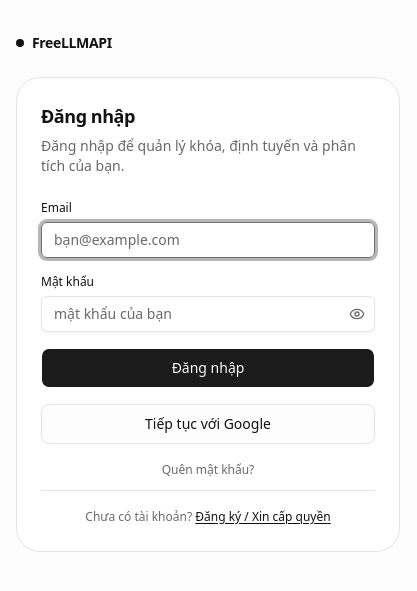
Test: explains a blocked Google sign-in destination in Vietnamese
Step 1. Click the button "Tiếp tục với Google" → x=208, y=424, box [41, 404, 375, 444]
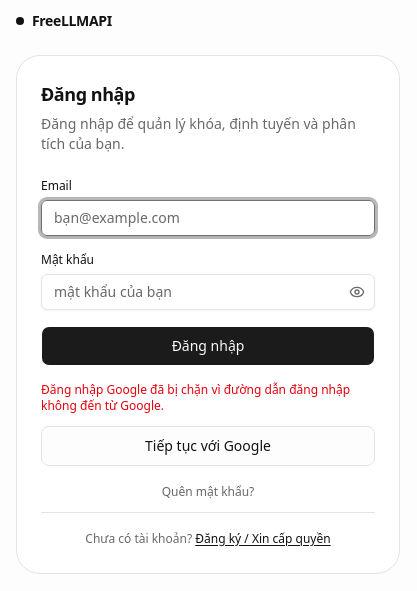
Now the message "Đăng nhập Google đã bị chặn vì đường dẫn đăng nhập không đến từ Google." is shown, box [41, 382, 375, 414]
